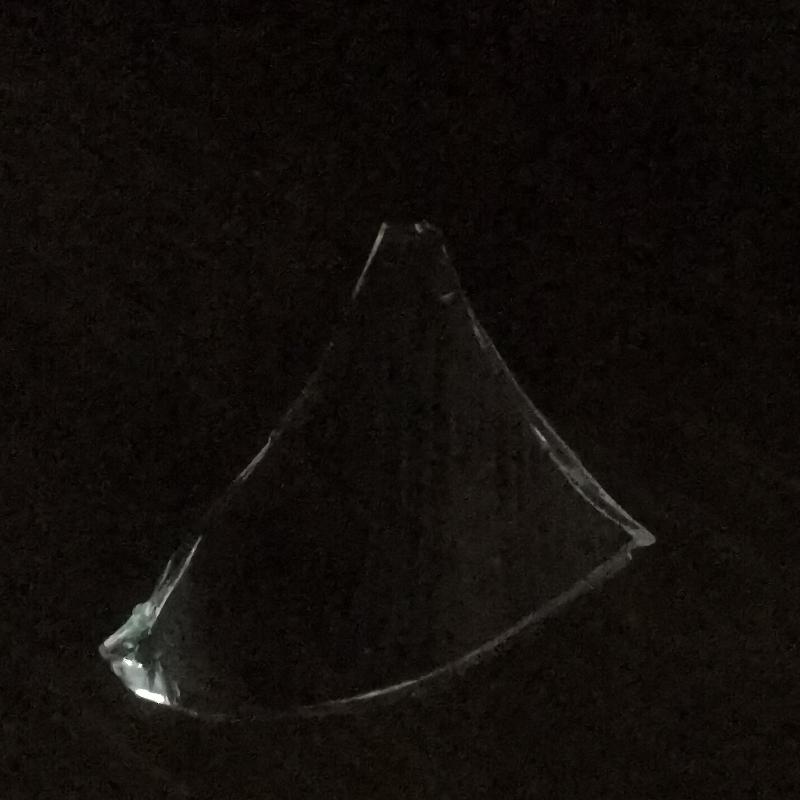glass: (95, 214, 658, 726)
